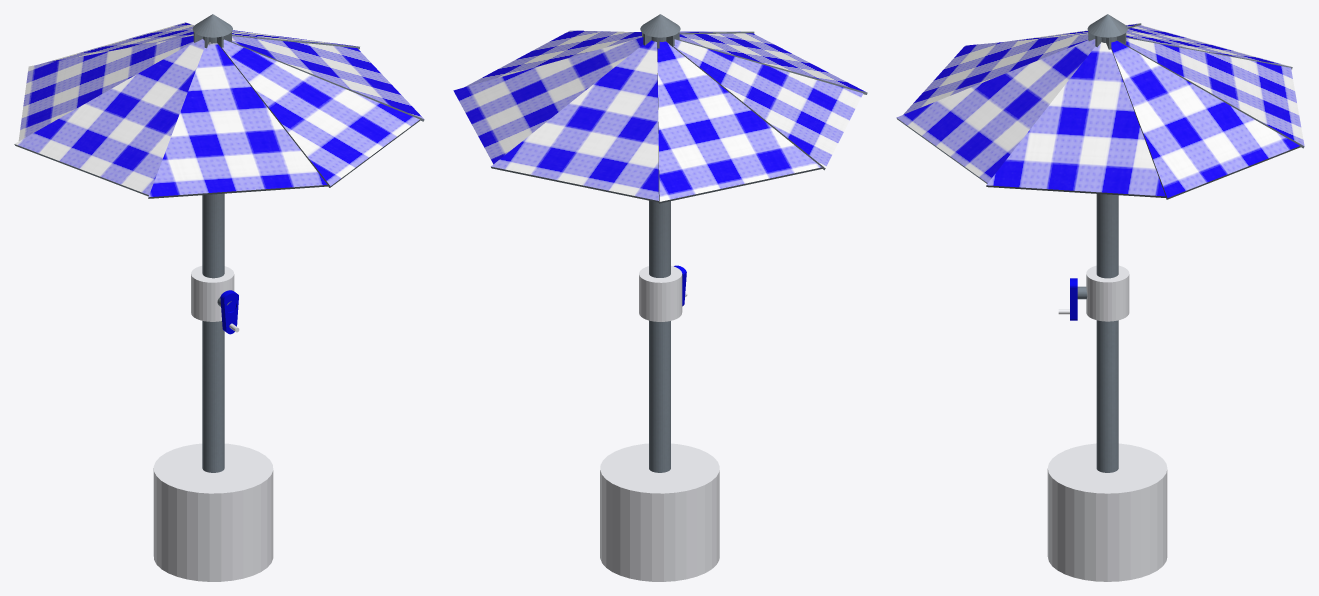
File: ParasolNew.fbx
3 renders of one model, left to right at view 1: azimuth 30°, elevation 25°; view 2: azimuth 150°, elevation 25°; view 3: azimuth 270°, elevation 25°, orthographic.
Parts seen in each view (by area): view 1: Parasol; view 2: Parasol; view 3: Parasol.
Part boxes in pixels (box(x1,y1,x2,y2)): Parasol: box(14, 14, 424, 581); Parasol: box(453, 14, 867, 581); Parasol: box(896, 14, 1304, 581).
Size of the model in its own units: 165 by 239 by 163.
1 material, 1 textured.
